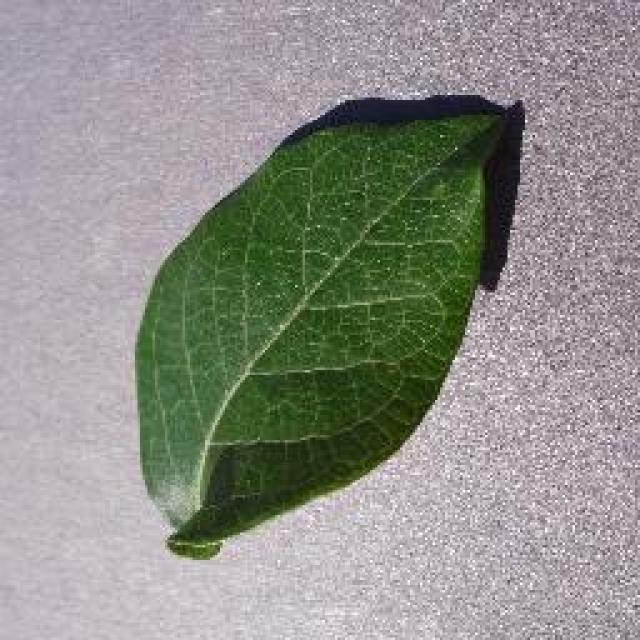Blu_healthy: (169, 110, 481, 492)
